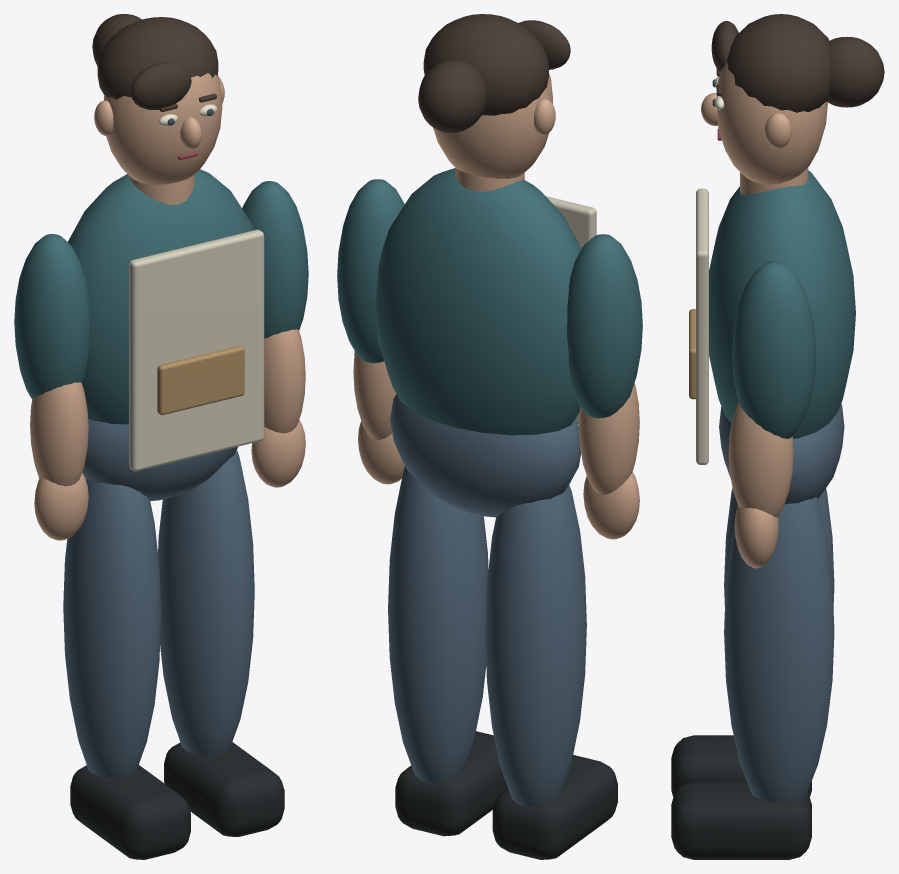
File: Leah.glb
3 renders of one model, left to right at view 1: azimuth 30°, elevation 25°; view 2: azimuth 150°, elevation 25°; view 3: azimuth 270°, elevation 25°, orthographic. The views are drawn at different scales.
Parts seen in each view (by area): view 1: Work apron, Trouser leg, Trouser leg.001, Shirt torso, Sleeve, Boot, Boot.001, Face, Sleeve.001, Hair cap, Hips, Forearm (+9 smaller); view 2: Shirt torso, Trouser leg, Trouser leg.001, Hips, Sleeve, Hair cap, Boot, Sleeve.001, Boot.001, Face, Forearm, Hair bun (+7 smaller); view 3: Trouser leg.001, Shirt torso, Sleeve.001, Boot.001, Hair cap, Face, Forearm.001, Hips, Work apron, Hair bun, Boot, Hand.001 (+5 smaller).
Part boxes in pixels (x1,y1,x2,y2): Work apron: (129,229,264,471); Trouser leg: (63,479,160,777); Trouser leg.001: (158,450,254,754); Shirt torso: (68,169,253,424); Sleeve: (14,234,89,399); Boot: (70,765,190,859); Boot.001: (164,742,284,836); Face: (103,73,222,184); Sleeve.001: (242,181,308,338); Hair cap: (97,17,218,99); Hips: (82,418,237,501); Forearm: (30,382,88,486); Shirt torso: (375,168,581,435); Trouser leg: (485,485,586,806); Trouser leg.001: (388,466,488,782); Hips: (390,394,580,517); Sleeve: (567,234,642,418); Hair cap: (423,14,548,115); Boot: (492,755,617,859); Sleeve.001: (337,179,404,363); Boot.001: (395,731,508,836); Face: (433,73,552,179); Forearm: (579,383,639,494); Hair bun: (418,59,487,132); Trouser leg.001: (724,497,834,803); Shirt torso: (709,170,855,438); Sleeve.001: (732,261,816,438); Boot.001: (671,782,811,859); Hair cap: (727,14,830,112); Face: (716,62,827,184); Forearm.001: (728,401,793,517); Hips: (719,403,844,504); Work apron: (696,188,708,464); Hair bun: (826,37,884,107); Boot: (671,735,811,797); Hand.001: (734,505,778,568).
Bounding box in the file's own units: 0.664 × 1.77 × 0.425.
